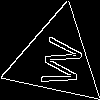W: (31, 34, 84, 90)
